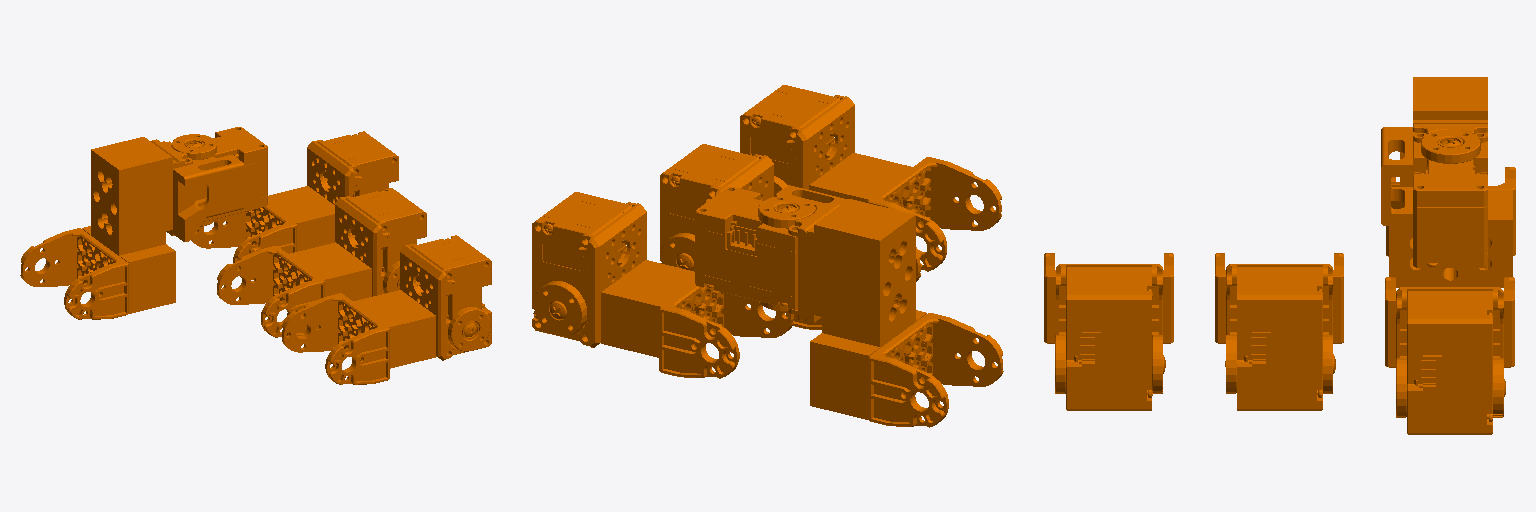
The robot description file, URDF, robot "onshape":
<robot name="onshape">
  <link name="palm_lower">
    <inertial>
      <origin xyz="0.0 0.0 0.0" rpy="0.0 -0.0 0.0"/>
      <mass value="0.237"/>
      <inertia ixx="0.000354094" ixy="-1.193e-06" ixz="-2.445e-06" iyy="0.000260915" iyz="-2.905e-06" izz="0.000529257"/>
    </inertial>
    <visual>
      <geometry>
        <mesh filename="../assets/leap/leap_hand/palm_lower.stl"/>
      </geometry>
      <origin xyz="-0.020095249652862544 0.025757756134899473 -0.034722403578460216" rpy="0.0 -0.0 0.0"/>
      <material name="palm_lower_material">
        <color rgba="0.6039215686274509 0.14901960784313725 0.14901960784313725 1.0"/>
      </material>
    </visual>
    <collision>
      <geometry>
        <mesh filename="../assets/leap/leap_hand/palm_lower.stl"/>
      </geometry>
      <origin xyz="-0.020095249652862544 0.025757756134899473 -0.034722403578460216" rpy="0.0 -0.0 0.0"/>
    </collision>
  </link>
  <link name="mcp_joint_long">
    <inertial>
      <origin xyz="0.0 0.0 0.0" rpy="0.0 -0.0 0.0"/>
      <mass value="0.044"/>
      <inertia ixx="1.1499e-05" ixy="3.049e-06" ixz="1.21e-07" iyy="7.796e-06" iyz="1.12e-07" izz="1.4759e-05"/>
    </inertial>
    <visual>
      <geometry>
        <mesh filename="custom_models/mcp_joint_long.stl"/>
      </geometry>
      <origin xyz="0.008406902261174496 0.0077662438597169954 0.014657354985032912" rpy="1.6375789613221e-15 -1.021047330249102e-30 1.7177968783327987e-31"/>
      <material name="mcp_joint_material">
        <color rgba="0.878 0.467 0.0 1.0"/>
      </material>
    </visual>
    <collision>
      <geometry>
        <mesh filename="custom_models/mcp_joint_long.stl"/>
      </geometry>
      <origin xyz="0.008406902261174496 0.0077662438597169954 0.014657354985032912" rpy="1.6375789613221e-15 -1.021047330249102e-30 1.7177968783327987e-31"/>
    </collision>
  </link>
  <link name="pip">
    <inertial>
      <origin xyz="0.0 0.0 0.0" rpy="0.0 -0.0 0.0"/>
      <mass value="0.032"/>
      <inertia ixx="4.798e-06" ixy="1.2e-08" ixz="4e-09" iyy="2.862e-06" iyz="1.1e-08" izz="4.234e-06"/>
    </inertial>
    <visual>
      <geometry>
        <mesh filename="../assets/leap/leap_hand/pip.stl"/>
      </geometry>
      <origin xyz="0.009643363092271328 0.0002999999999999895 0.0007840340104173765" rpy="-1.5707963267948966 -1.5707963267948963 0.0"/>
      <material name="pip_material">
        <color rgba="0.7490196078431373 0.7490196078431373 0.7490196078431373 1.0"/>
      </material>
    </visual>
    <collision>
      <geometry>
        <mesh filename="../assets/leap/leap_hand/pip.stl"/>
      </geometry>
      <origin xyz="0.009643363092271328 0.0002999999999999895 0.0007840340104173765" rpy="-1.5707963267948966 -1.5707963267948963 0.0"/>
    </collision>
  </link>
  <link name="dip_long">
    <inertial>
      <origin xyz="0.0 0.0 0.0" rpy="0.0 -0.0 0.0"/>
      <mass value="0.037"/>
      <inertia ixx="5.542e-06" ixy="-6.07e-07" ixz="-1.7e-08" iyy="5.727e-06" iyz="-2.3e-08" izz="6.682e-06"/>
    </inertial>
    <visual>
      <geometry>
        <mesh filename="custom_models/dip_long.stl"/>
      </geometry>
      <origin xyz="0.021133352895225003 -0.00843211914670488 0.00978508816209524" rpy="-3.141592653589793 4.507511124216441e-32 4.439548105392361e-32"/>
      <material name="dip_material">
        <color rgba="0.878 0.467 0.0 1.0"/>
      </material>
    </visual>
    <collision>
      <geometry>
        <mesh filename="custom_models/dip_long.stl"/>
      </geometry>
      <origin xyz="0.021133352895225003 -0.00843211914670488 0.00978508816209524" rpy="-3.141592653589793 4.507511124216441e-32 4.439548105392361e-32"/>
    </collision>
  </link>
  <link name="fingertip">
    <inertial>
      <origin xyz="0.0 0.0 0.0" rpy="0.0 -0.0 0.0"/>
      <mass value="0.016"/>
      <inertia ixx="3.368e-06" ixy="1.15e-07" ixz="0.0" iyy="1.556e-06" iyz="0.0" izz="2.863e-06"/>
    </inertial>
    <visual>
      <geometry>
        <mesh filename="../assets/leap/leap_hand/fingertip.stl"/>
      </geometry>
      <origin xyz="0.013286424108533503 -0.006114238386541987 0.014499999999999498" rpy="3.141592653589793 1.1993117970061735e-33 4.439548105392361e-32"/>
      <material name="fingertip_material">
        <color rgba="0.8666666666666667 0.8666666666666667 0.050980392156862744 1.0"/>
      </material>
    </visual>
    <collision>
      <geometry>
        <mesh filename="../assets/leap/leap_hand/fingertip.stl"/>
      </geometry>
      <origin xyz="0.013286424108533503 -0.006114238386541987 0.014499999999999498" rpy="3.141592653589793 1.1993117970061735e-33 4.439548105392361e-32"/>
    </collision>
  </link>
  <link name="pip_4">
    <inertial>
      <origin xyz="0.0 0.0 0.0" rpy="0.0 -0.0 0.0"/>
      <mass value="0.032"/>
      <inertia ixx="4.798e-06" ixy="1.2e-08" ixz="4e-09" iyy="2.862e-06" iyz="1.1e-08" izz="4.234e-06"/>
    </inertial>
    <visual>
      <geometry>
        <mesh filename="../assets/leap/leap_hand/pip.stl"/>
      </geometry>
      <origin xyz="-0.005356636907728671 0.0002999999999999999 0.0007840340104173782" rpy="-1.5707963267948966 -1.5707963267948963 0.0"/>
      <material name="pip_material">
        <color rgba="0.7490196078431373 0.7490196078431373 0.7490196078431373 1.0"/>
      </material>
    </visual>
    <collision>
      <geometry>
        <mesh filename="../assets/leap/leap_hand/pip.stl"/>
      </geometry>
      <origin xyz="-0.005356636907728671 0.0002999999999999999 0.0007840340104173782" rpy="-1.5707963267948966 -1.5707963267948963 0.0"/>
    </collision>
  </link>
  <link name="thumb_pip">
    <inertial>
      <origin xyz="0.0 0.0 0.0" rpy="0.0 -0.0 0.0"/>
      <mass value="0.003"/>
      <inertia ixx="5.93e-07" ixy="0.0" ixz="0.0" iyy="5.49e-07" iyz="0.0" izz="2.24e-07"/>
    </inertial>
    <visual>
      <geometry>
        <mesh filename="../assets/leap/leap_hand/thumb_pip.stl"/>
      </geometry>
      <origin xyz="0.011961920770611187 -5.30825383648903e-16 -0.0158526489566642" rpy="1.5707963267948966 1.6050198443300153e-46 -3.9204996250525193e-59"/>
      <material name="thumb_pip_material">
        <color rgba="0.8666666666666667 0.8666666666666667 0.050980392156862744 1.0"/>
      </material>
    </visual>
    <collision>
      <geometry>
        <mesh filename="../assets/leap/leap_hand/thumb_pip.stl"/>
      </geometry>
      <origin xyz="0.011961920770611187 -5.30825383648903e-16 -0.0158526489566642" rpy="1.5707963267948966 1.6050198443300153e-46 -3.9204996250525193e-59"/>
    </collision>
  </link>
  <link name="thumb_dip">
    <inertial>
      <origin xyz="0.0 0.0 0.0" rpy="0.0 -0.0 0.0"/>
      <mass value="0.038"/>
      <inertia ixx="8.474e-06" ixy="2.41e-07" ixz="2.6e-08" iyy="3.841e-06" iyz="2.5e-08" izz="7.679e-06"/>
    </inertial>
    <visual>
      <geometry>
        <mesh filename="../assets/leap/leap_hand/thumb_dip.stl"/>
      </geometry>
      <origin xyz="0.043968715707239175 0.0579529529737092 -0.008628676449369476" rpy="1.94289029309401e-16 3.27515792264422e-15 1.112375852965736e-46"/>
      <material name="thumb_dip_material">
        <color rgba="0.8666666666666667 0.8666666666666667 0.050980392156862744 1.0"/>
      </material>
    </visual>
    <collision>
      <geometry>
        <mesh filename="../assets/leap/leap_hand/thumb_dip.stl"/>
      </geometry>
      <origin xyz="0.043968715707239175 0.0579529529737092 -0.008628676449369476" rpy="1.94289029309401e-16 3.27515792264422e-15 1.112375852965736e-46"/>
    </collision>
  </link>
  <link name="thumb_fingertip">
    <inertial>
      <origin xyz="0.0 0.0 0.0" rpy="0.0 -0.0 0.0"/>
      <mass value="0.049"/>
      <inertia ixx="2.0372e-05" ixy="-4.89e-07" ixz="-3e-08" iyy="4.336e-06" iyz="-9.7e-08" izz="1.9845e-05"/>
    </inertial>
    <visual>
      <geometry>
        <mesh filename="../assets/leap/leap_hand/thumb_fingertip.stl"/>
      </geometry>
      <origin xyz="0.06255953846266739 0.07845968291139699 0.048992911807332215" rpy="4.379057701015637e-47 -3.33066907387547e-16 1.2042408677791935e-46"/>
      <material name="thumb_fingertip_material">
        <color rgba="0.6039215686274509 0.14901960784313725 0.14901960784313725 1.0"/>
      </material>
    </visual>
    <collision>
      <geometry>
        <mesh filename="../assets/leap/leap_hand/thumb_fingertip.stl"/>
      </geometry>
      <origin xyz="0.06255953846266739 0.07845968291139699 0.048992911807332215" rpy="4.379057701015637e-47 -3.33066907387547e-16 1.2042408677791935e-46"/>
    </collision>
  </link>
  <link name="mcp_joint_2">
    <inertial>
      <origin xyz="0.0 0.0 0.0" rpy="0.0 -0.0 0.0"/>
      <mass value="0.044"/>
      <inertia ixx="1.1499e-05" ixy="3.049e-06" ixz="1.21e-07" iyy="7.796e-06" iyz="1.12e-07" izz="1.4759e-05"/>
    </inertial>
    <visual>
      <geometry>
        <mesh filename="../assets/leap/leap_hand/mcp_joint.stl"/>
      </geometry>
      <origin xyz="0.008406902261174496 0.0077662438597169954 0.014657354985032914" rpy="1.6375789613221e-15 -1.0076465469034e-30 2.1209300131419907e-61"/>
      <material name="mcp_joint_material">
        <color rgba="0.8666666666666667 0.8666666666666667 0.050980392156862744 1.0"/>
      </material>
    </visual>
    <collision>
      <geometry>
        <mesh filename="../assets/leap/leap_hand/mcp_joint.stl"/>
      </geometry>
      <origin xyz="0.008406902261174496 0.0077662438597169954 0.014657354985032914" rpy="1.6375789613221e-15 -1.0076465469034e-30 2.1209300131419907e-61"/>
    </collision>
  </link>
  <link name="pip_2">
    <inertial>
      <origin xyz="0.0 0.0 0.0" rpy="0.0 -0.0 0.0"/>
      <mass value="0.032"/>
      <inertia ixx="4.798e-06" ixy="1.2e-08" ixz="4e-09" iyy="2.862e-06" iyz="1.1e-08" izz="4.234e-06"/>
    </inertial>
    <visual>
      <geometry>
        <mesh filename="../assets/leap/leap_hand/pip.stl"/>
      </geometry>
      <origin xyz="0.009643363092271328 0.0002999999999999947 0.0007840340104173765" rpy="-1.5707963267948966 -1.5707963267948963 0.0"/>
      <material name="pip_material">
        <color rgba="0.7490196078431373 0.7490196078431373 0.7490196078431373 1.0"/>
      </material>
    </visual>
    <collision>
      <geometry>
        <mesh filename="../assets/leap/leap_hand/pip.stl"/>
      </geometry>
      <origin xyz="0.009643363092271328 0.0002999999999999947 0.0007840340104173765" rpy="-1.5707963267948966 -1.5707963267948963 0.0"/>
    </collision>
  </link>
  <link name="dip_2_long">
    <inertial>
      <origin xyz="0.0 0.0 0.0" rpy="0.0 -0.0 0.0"/>
      <mass value="0.037"/>
      <inertia ixx="5.542e-06" ixy="-6.07e-07" ixz="-1.7e-08" iyy="5.727e-06" iyz="-2.3e-08" izz="6.682e-06"/>
    </inertial>
    <visual>
      <geometry>
        <mesh filename="custom_models/dip_long.stl"/>
      </geometry>
      <origin xyz="0.021133352895225003 -0.008432119146704865 0.009785088162095237" rpy="-3.141592653589793 2.1146933785271956e-32 1.4408183216511869e-31"/>
      <material name="dip_material">
        <color rgba="0.878 0.467 0.0 1.0"/>
      </material>
    </visual>
    <collision>
      <geometry>
        <mesh filename="custom_models/dip_long.stl"/>
      </geometry>
      <origin xyz="0.021133352895225003 -0.008432119146704865 0.009785088162095237" rpy="-3.141592653589793 2.1146933785271956e-32 1.4408183216511869e-31"/>
    </collision>
  </link>
  <link name="fingertip_2">
    <inertial>
      <origin xyz="0.0 0.0 0.0" rpy="0.0 -0.0 0.0"/>
      <mass value="0.016"/>
      <inertia ixx="3.368e-06" ixy="1.15e-07" ixz="0.0" iyy="1.556e-06" iyz="0.0" izz="2.863e-06"/>
    </inertial>
    <visual>
      <geometry>
        <mesh filename="../assets/leap/leap_hand/fingertip.stl"/>
      </geometry>
      <origin xyz="0.013286424108533496 -0.006114238386542001 0.014499999999999496" rpy="3.141592653589793 -4.317959788283594e-33 1.4408183216511869e-31"/>
      <material name="fingertip_material">
        <color rgba="0.8666666666666667 0.8666666666666667 0.050980392156862744 1.0"/>
      </material>
    </visual>
    <collision>
      <geometry>
        <mesh filename="../assets/leap/leap_hand/fingertip.stl"/>
      </geometry>
      <origin xyz="0.013286424108533496 -0.006114238386542001 0.014499999999999496" rpy="3.141592653589793 -4.317959788283594e-33 1.4408183216511869e-31"/>
    </collision>
  </link>
  <link name="mcp_joint_3">
    <inertial>
      <origin xyz="0.0 0.0 0.0" rpy="0.0 -0.0 0.0"/>
      <mass value="0.044"/>
      <inertia ixx="1.1499e-05" ixy="3.049e-06" ixz="1.21e-07" iyy="7.796e-06" iyz="1.12e-07" izz="1.4759e-05"/>
    </inertial>
    <visual>
      <geometry>
        <mesh filename="../assets/leap/leap_hand/mcp_joint.stl"/>
      </geometry>
      <origin xyz="0.0084069022611745 0.007766243859716996 0.014657354985032914" rpy="1.6375789613221e-15 -1.0059504988632627e-30 5.729641584552035e-32"/>
      <material name="mcp_joint_material">
        <color rgba="0.8666666666666667 0.8666666666666667 0.050980392156862744 1.0"/>
      </material>
    </visual>
    <collision>
      <geometry>
        <mesh filename="../assets/leap/leap_hand/mcp_joint.stl"/>
      </geometry>
      <origin xyz="0.0084069022611745 0.007766243859716996 0.014657354985032914" rpy="1.6375789613221e-15 -1.0059504988632627e-30 5.729641584552035e-32"/>
    </collision>
  </link>
  <link name="pip_3">
    <inertial>
      <origin xyz="0.0 0.0 0.0" rpy="0.0 -0.0 0.0"/>
      <mass value="0.032"/>
      <inertia ixx="4.798e-06" ixy="1.2e-08" ixz="4e-09" iyy="2.862e-06" iyz="1.1e-08" izz="4.234e-06"/>
    </inertial>
    <visual>
      <geometry>
        <mesh filename="../assets/leap/leap_hand/pip.stl"/>
      </geometry>
      <origin xyz="0.009643363092271331 0.00029999999999998084 0.0007840340104173765" rpy="-1.5707963267948966 -1.5707963267948963 0.0"/>
      <material name="pip_material">
        <color rgba="0.7490196078431373 0.7490196078431373 0.7490196078431373 1.0"/>
      </material>
    </visual>
    <collision>
      <geometry>
        <mesh filename="../assets/leap/leap_hand/pip.stl"/>
      </geometry>
      <origin xyz="0.009643363092271331 0.00029999999999998084 0.0007840340104173765" rpy="-1.5707963267948966 -1.5707963267948963 0.0"/>
    </collision>
  </link>
  <link name="dip_3_long">
    <inertial>
      <origin xyz="0.0 0.0 0.0" rpy="0.0 -0.0 0.0"/>
      <mass value="0.037"/>
      <inertia ixx="5.542e-06" ixy="-6.07e-07" ixz="-1.7e-08" iyy="5.727e-06" iyz="-2.3e-08" izz="6.682e-06"/>
    </inertial>
    <visual>
      <geometry>
        <mesh filename="custom_models/dip_long.stl"/>
      </geometry>
      <origin xyz="0.021133352895225006 -0.008432119146704865 0.009785088162095237" rpy="-3.141592653589793 -1.4095651113919093e-33 1.5565411607615035e-32"/>
      <material name="dip_material">
        <color rgba="0.878 0.467 0.0 1.0"/>
      </material>
    </visual>
    <collision>
      <geometry>
        <mesh filename="custom_models/dip_long.stl"/>
      </geometry>
      <origin xyz="0.021133352895225006 -0.008432119146704865 0.009785088162095237" rpy="-3.141592653589793 -1.4095651113919093e-33 1.5565411607615035e-32"/>
    </collision>
  </link>
  <link name="fingertip_3">
    <inertial>
      <origin xyz="0.0 0.0 0.0" rpy="0.0 -0.0 0.0"/>
      <mass value="0.016"/>
      <inertia ixx="3.368e-06" ixy="1.15e-07" ixz="0.0" iyy="1.556e-06" iyz="0.0" izz="2.863e-06"/>
    </inertial>
    <visual>
      <geometry>
        <mesh filename="../assets/leap/leap_hand/fingertip.stl"/>
      </geometry>
      <origin xyz="0.013286424108533501 -0.006114238386541987 0.0144999999999995" rpy="3.141592653589793 8.61707169505754e-33 1.5565411607615035e-32"/>
      <material name="fingertip_material">
        <color rgba="0.8666666666666667 0.8666666666666667 0.050980392156862744 1.0"/>
      </material>
    </visual>
    <collision>
      <geometry>
        <mesh filename="../assets/leap/leap_hand/fingertip.stl"/>
      </geometry>
      <origin xyz="0.013286424108533501 -0.006114238386541987 0.0144999999999995" rpy="3.141592653589793 8.61707169505754e-33 1.5565411607615035e-32"/>
    </collision>
  </link>
  <joint name="1" type="revolute">
    <parent link="palm_lower"/>
    <child link="mcp_joint_long"/>
    <origin xyz="-0.007095249652862546 0.023057756134899472 -0.01872240357846022" rpy="1.570796326794895 1.5707963267948946 0.0"/>
    <axis xyz="0.0 0.0 -1.0"/>
    <limit effort="0.95" velocity="8.48" lower="-0.314" upper="2.23"/>
  </joint>
  <joint name="0" type="revolute">
    <parent link="mcp_joint_long"/>
    <child link="pip"/>
    <origin xyz="-0.012200000000000007713 0.053099999999999994982 0.014500000000000000736" rpy="-1.5707963267948966 -1.0065212660796337e-15 1.5707963267948943"/>
    <axis xyz="0.0 0.0 -1.0"/>
    <limit effort="0.95" velocity="8.48" lower="-1.047" upper="1.047"/>
  </joint>
  <joint name="2" type="revolute">
    <parent link="pip"/>
    <child link="dip_long"/>
    <origin xyz="0.014999999999999968 0.014299999999999905 -0.012999999999999824" rpy="1.570796326794896 -1.5707963267948963 0.0"/>
    <axis xyz="0.0 0.0 -1.0"/>
    <limit effort="0.95" velocity="8.48" lower="-0.506" upper="1.885"/>
  </joint>
  <joint name="3" type="revolute">
    <parent link="dip_long"/>
    <child link="fingertip"/>
    <origin xyz="-4.0880582495572692636e-09 -0.051100004210367367397 0.00020000000000007858714" rpy="4.5935029425113685e-17 -2.8730071914463795e-16 4.439548105392361e-32"/>
    <axis xyz="0.0 0.0 -1.0"/>
    <limit effort="0.95" velocity="8.48" lower="-0.366" upper="2.042"/>
  </joint>
  <joint name="12" type="revolute">
    <parent link="palm_lower"/>
    <child link="pip_4"/>
    <origin xyz="-0.06939524965286253 -0.0012422438651005258 -0.021622403578460216" rpy="-8.238176646493942e-17 1.5707963267948957 0.0"/>
    <axis xyz="0.0 0.0 -1.0"/>
    <limit effort="0.95" velocity="8.48" lower="-0.349" upper="2.094"/>
  </joint>
  <joint name="13" type="revolute">
    <parent link="pip_4"/>
    <child link="thumb_pip"/>
    <origin xyz="-2.7755575615628914e-17 0.014300000000000005 -0.013000000000000012" rpy="1.570796326794896 -1.5707963267948963 0.0"/>
    <axis xyz="0.0 0.0 -1.0"/>
    <limit effort="0.95" velocity="8.48" lower="-0.47" upper="2.443"/>
  </joint>
  <joint name="14" type="revolute">
    <parent link="thumb_pip"/>
    <child link="thumb_dip"/>
    <origin xyz="0.0 0.014499999999999966 -0.017000000000000053" rpy="-1.5707963267948966 1.6050198443300131e-46 -1.9721522630516625e-31"/>
    <axis xyz="0.0 0.0 -1.0"/>
    <limit effort="0.95" velocity="8.48" lower="-1.2" upper="1.9"/>
  </joint>
  <joint name="15" type="revolute">
    <parent link="thumb_dip"/>
    <child link="thumb_fingertip"/>
    <origin xyz="-1.249000902703301e-16 0.046599999999999864 0.0001999999999999771" rpy="1.506395849149178e-44 5.423418723393526e-31 3.141592653589793"/>
    <axis xyz="0.0 0.0 -1.0"/>
    <limit effort="0.95" velocity="8.48" lower="-1.34" upper="1.88"/>
  </joint>
  <joint name="5" type="revolute">
    <parent link="palm_lower"/>
    <child link="mcp_joint_2"/>
    <origin xyz="-0.007095249652862546 -0.022392243865100525 -0.01872240357846022" rpy="1.570796326794895 1.5707963267948946 0.0"/>
    <axis xyz="0.0 0.0 -1.0"/>
    <limit effort="0.95" velocity="8.48" lower="-0.314" upper="2.23"/>
  </joint>
  <joint name="4" type="revolute">
    <parent link="mcp_joint_2"/>
    <child link="pip_2"/>
    <origin xyz="-0.012200000000000008 0.038099999999999995 0.0145" rpy="-1.5707963267948966 -1.0065212660796337e-15 1.5707963267948943"/>
    <axis xyz="0.0 0.0 -1.0"/>
    <limit effort="0.95" velocity="8.48" lower="-1.047" upper="1.047"/>
  </joint>
  <joint name="6" type="revolute">
    <parent link="pip_2"/>
    <child link="dip_2_long"/>
    <origin xyz="0.014999999999999968 0.014299999999999905 -0.012999999999999824" rpy="1.570796326794896 -1.5707963267948963 0.0"/>
    <axis xyz="0.0 0.0 -1.0"/>
    <limit effort="0.95" velocity="8.48" lower="-0.506" upper="1.885"/>
  </joint>
  <joint name="7" type="revolute">
    <parent link="dip_2_long"/>
    <child link="fingertip_2"/>
    <origin xyz="-4.0880582495572692636e-09 -0.051100004210367367397 0.00020000000000007858714" rpy="4.5935029425113685e-17 -2.8730071914463795e-16 4.439548105392361e-32"/>
    <axis xyz="0.0 0.0 -1.0"/>
    <limit effort="0.95" velocity="8.48" lower="-0.366" upper="2.042"/>
  </joint>
  <joint name="9" type="revolute">
    <parent link="palm_lower"/>
    <child link="mcp_joint_3"/>
    <origin xyz="-0.007095249652862546 -0.06784224386510052 -0.01872240357846022" rpy="1.570796326794895 1.5707963267948946 0.0"/>
    <axis xyz="0.0 0.0 -1.0"/>
    <limit effort="0.95" velocity="8.48" lower="-0.314" upper="2.23"/>
  </joint>
  <joint name="8" type="revolute">
    <parent link="mcp_joint_3"/>
    <child link="pip_3"/>
    <origin xyz="-0.012200000000000008 0.038099999999999995 0.0145" rpy="-1.5707963267948966 -1.0065212660796337e-15 1.5707963267948943"/>
    <axis xyz="0.0 0.0 -1.0"/>
    <limit effort="0.95" velocity="8.48" lower="-1.047" upper="1.047"/>
  </joint>
  <joint name="10" type="revolute">
    <parent link="pip_3"/>
    <child link="dip_3_long"/>
    <origin xyz="0.014999999999999968 0.014299999999999905 -0.012999999999999824" rpy="1.570796326794896 -1.5707963267948963 0.0"/>
    <axis xyz="0.0 0.0 -1.0"/>
    <limit effort="0.95" velocity="8.48" lower="-0.506" upper="1.885"/>
  </joint>
  <joint name="11" type="revolute">
    <parent link="dip_3_long"/>
    <child link="fingertip_3"/>
    <origin xyz="-4.0880582495572692636e-09 -0.051100004210367367397 0.00020000000000007858714" rpy="4.5935029425113685e-17 -2.8730071914463795e-16 4.439548105392361e-32"/>
    <axis xyz="0.0 0.0 -1.0"/>
    <limit effort="0.95" velocity="8.48" lower="-0.366" upper="2.042"/>
  </joint>
</robot>

--- What the picture shows (computed from the rendered views, not written in the file) ---
3 views of the same robot in one strip: view 1: azimuth 30°, elevation 25°; view 2: azimuth 150°, elevation 25°; view 3: azimuth 270°, elevation 25° (orthographic).
Model onshape with 17 links and 16 joints (16 revolute), rooted at palm_lower, posed all joints at 0.
Visible links, largest first — view 1: mcp_joint_long, dip_3_long, dip_2_long, dip_long; view 2: mcp_joint_long, dip_long, dip_3_long, dip_2_long; view 3: mcp_joint_long, dip_long, dip_3_long, dip_2_long.
Boxes of the visible links, <box> form: mcp_joint_long: <box>20,127,267,319</box>; dip_3_long: <box>282,235,491,384</box>; dip_2_long: <box>217,188,426,337</box>; dip_long: <box>191,131,398,279</box>; mcp_joint_long: <box>695,185,1003,427</box>; dip_long: <box>532,192,793,378</box>; dip_3_long: <box>740,85,1001,271</box>; dip_2_long: <box>660,144,920,329</box>; mcp_joint_long: <box>1381,77,1515,287</box>; dip_long: <box>1385,277,1514,434</box>; dip_3_long: <box>1044,253,1173,410</box>; dip_2_long: <box>1215,253,1343,410</box>.
Size in the robot's own frame: 0.1371 by 0.1257 by 0.0538 metres.
Meshes: 9 distinct files referenced, 4 mesh visuals loaded (2 binary STL); not drawn: 13 (reference not matched to a file when rendering).